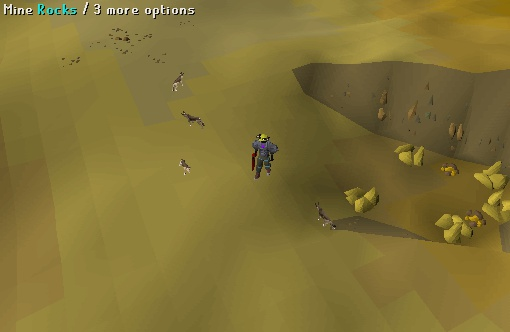gold: (429, 205, 485, 253), (389, 137, 434, 176), (339, 182, 384, 217)
